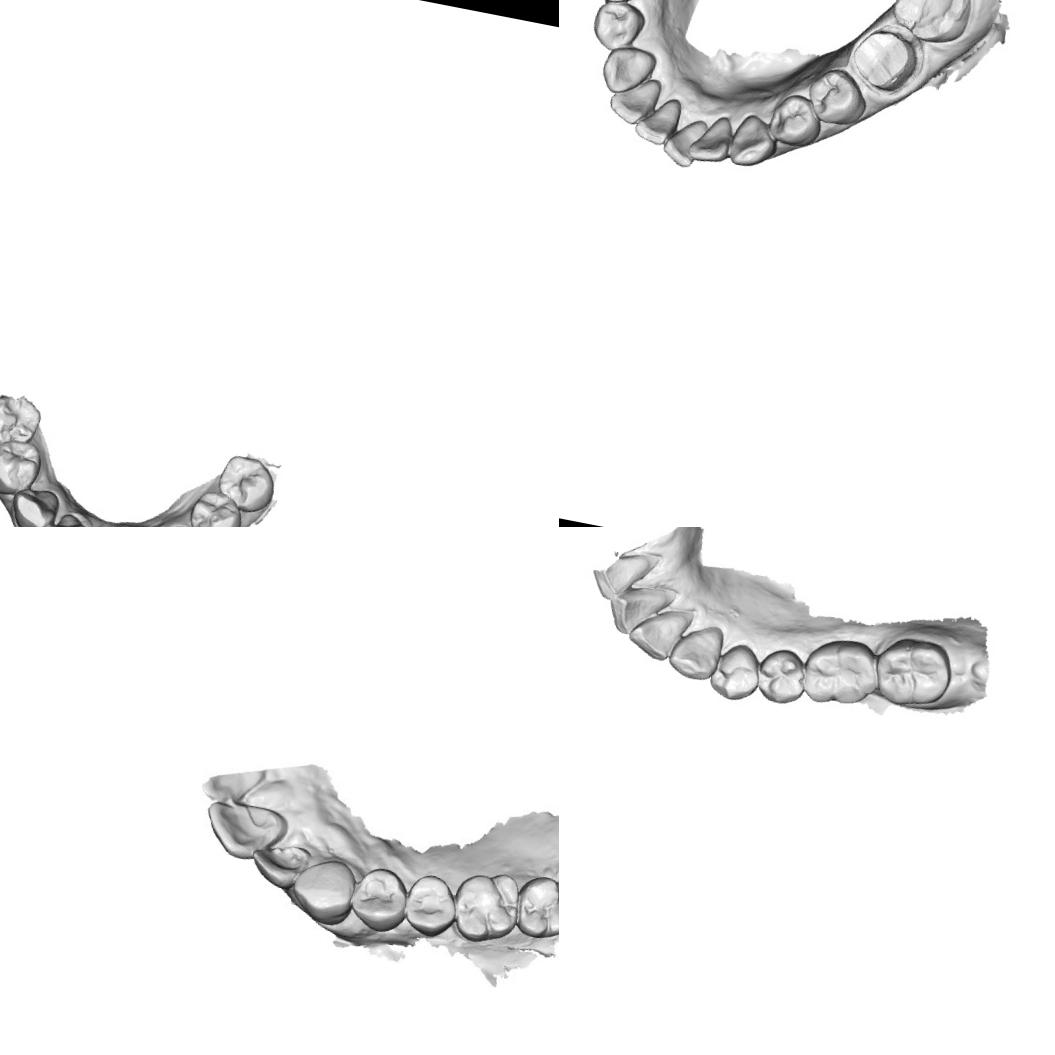canine: (290, 850, 362, 924), (663, 618, 727, 685), (596, 40, 660, 100), (726, 109, 782, 172), (4, 482, 61, 527)
crown: (844, 15, 928, 99)
incisor: (198, 792, 296, 866), (604, 577, 674, 643), (624, 600, 692, 664), (242, 838, 312, 892), (604, 70, 664, 130), (630, 88, 684, 150), (657, 106, 708, 171), (684, 108, 736, 168), (40, 508, 90, 527)
molar: (867, 629, 959, 716), (796, 630, 886, 713), (446, 864, 530, 949), (885, 0, 980, 50), (510, 868, 559, 947)
premolar: (802, 62, 874, 130), (764, 86, 832, 154), (347, 862, 411, 934), (212, 450, 281, 516), (399, 864, 462, 934), (704, 635, 766, 705), (752, 643, 810, 708), (586, 0, 648, 56), (0, 433, 45, 500), (0, 387, 44, 452), (182, 487, 246, 527)
